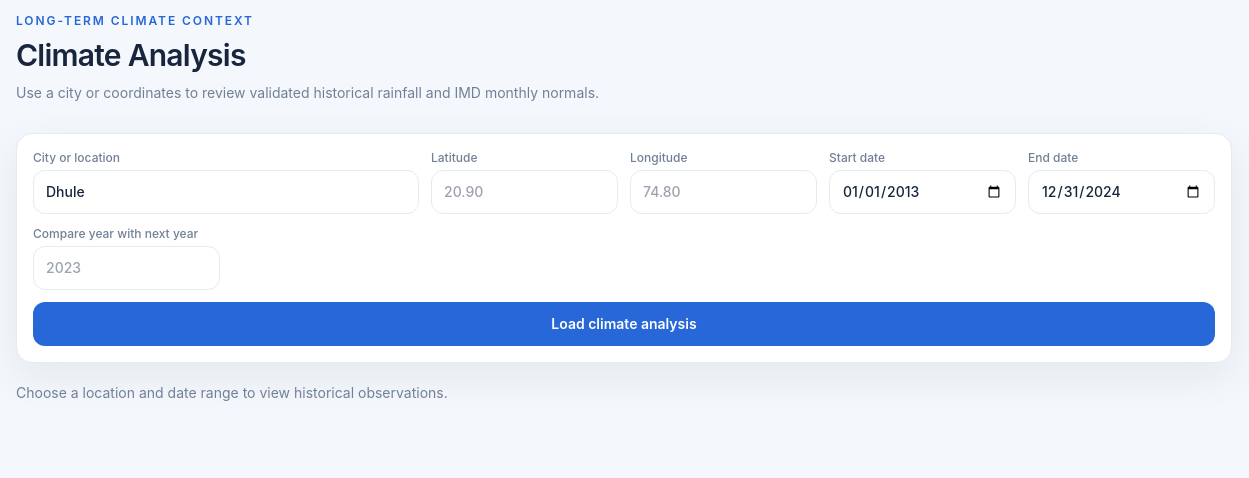
it: Climate Analysis page › surfaces location/provider errors without inventing result data
Click the button "Load climate analysis" at (624, 324), box [33,302,1215,346]
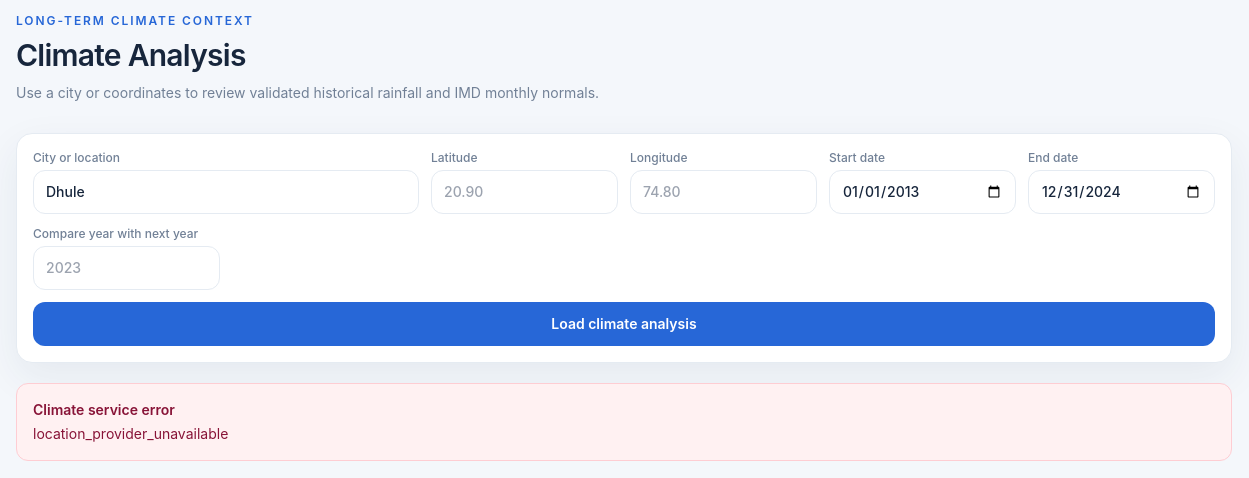
Now the message shows "location_provider_unavailable", box [33,425,228,442]
